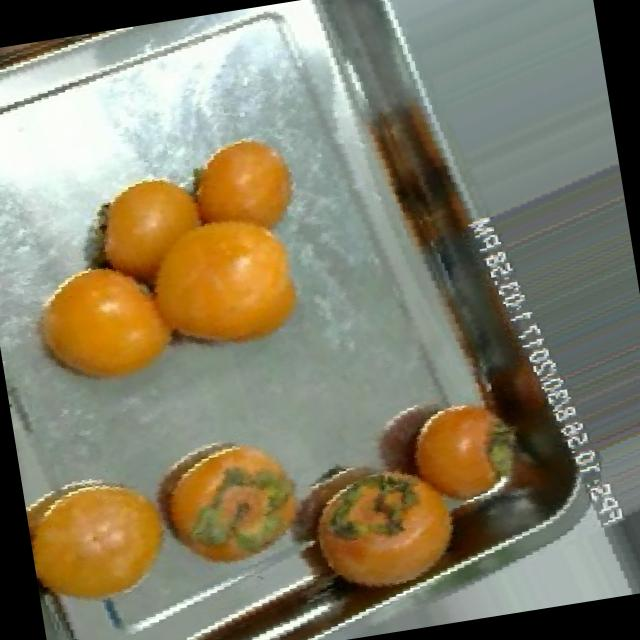Fruit: (123, 407, 334, 596), (125, 182, 326, 376), (281, 441, 488, 628), (20, 444, 204, 626), (4, 237, 190, 411), (385, 380, 523, 525)
